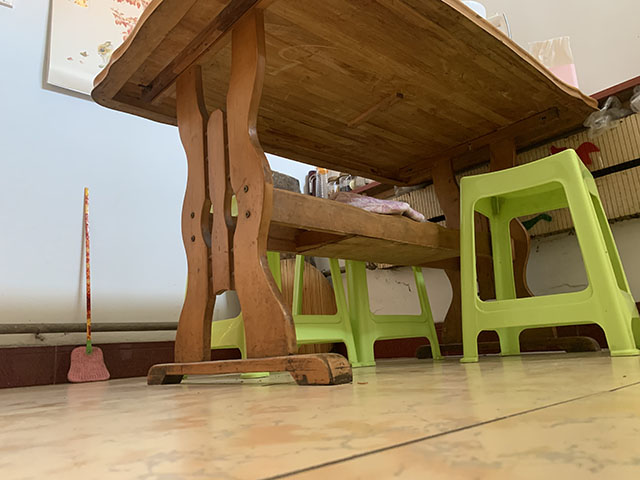stool: (458, 148, 640, 365)
table: (90, 1, 598, 387), (210, 244, 444, 380)
